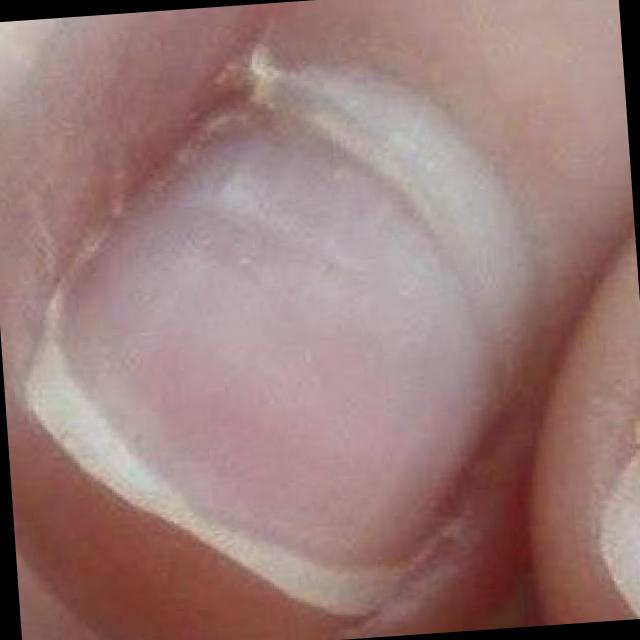Nail: (17, 65, 534, 618)
